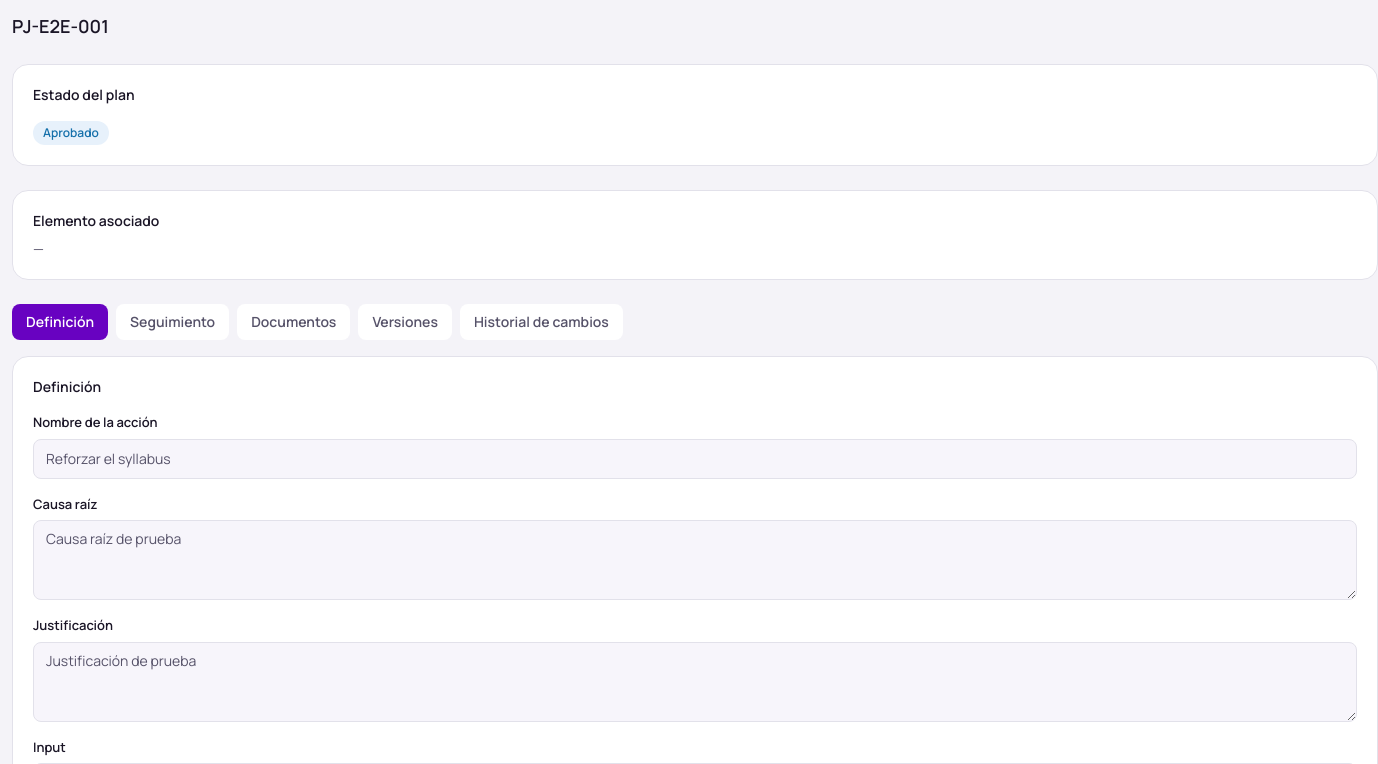
Test case: RF-CH-043 y RF-CH-044 — el detalle con el ciclo propio › «nueva versión» solo desde Aprobado
The width and height of the screenshot is (1378, 764).
Click the tab "Versiones" at (405, 322), box [358, 304, 452, 340]
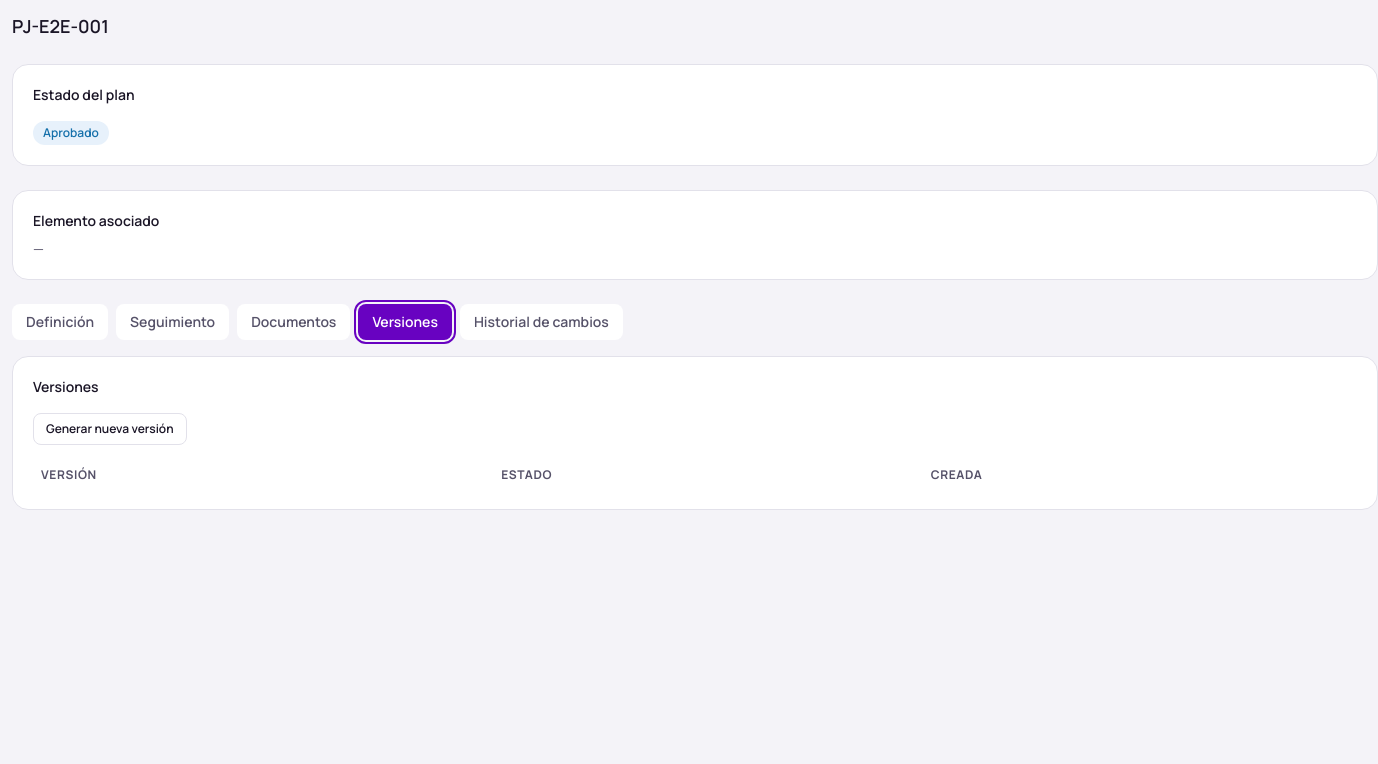
Check: the button "Generar nueva versión" is enabled, box [33, 413, 186, 445]
